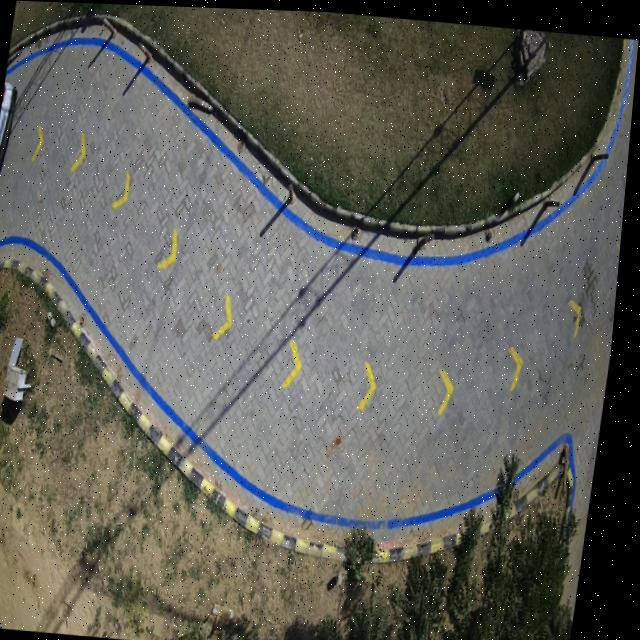car: (0, 82, 19, 174)
